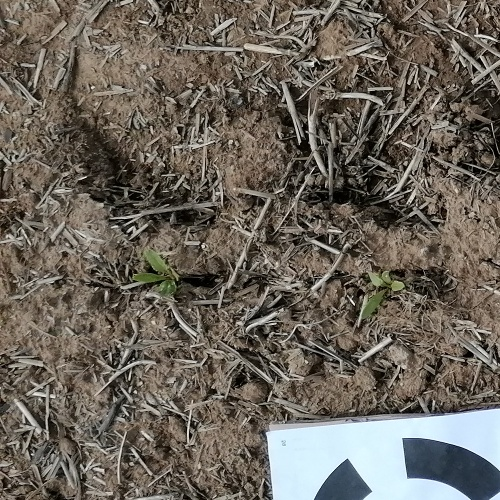beet: (357, 266, 405, 325), (130, 246, 181, 299)
